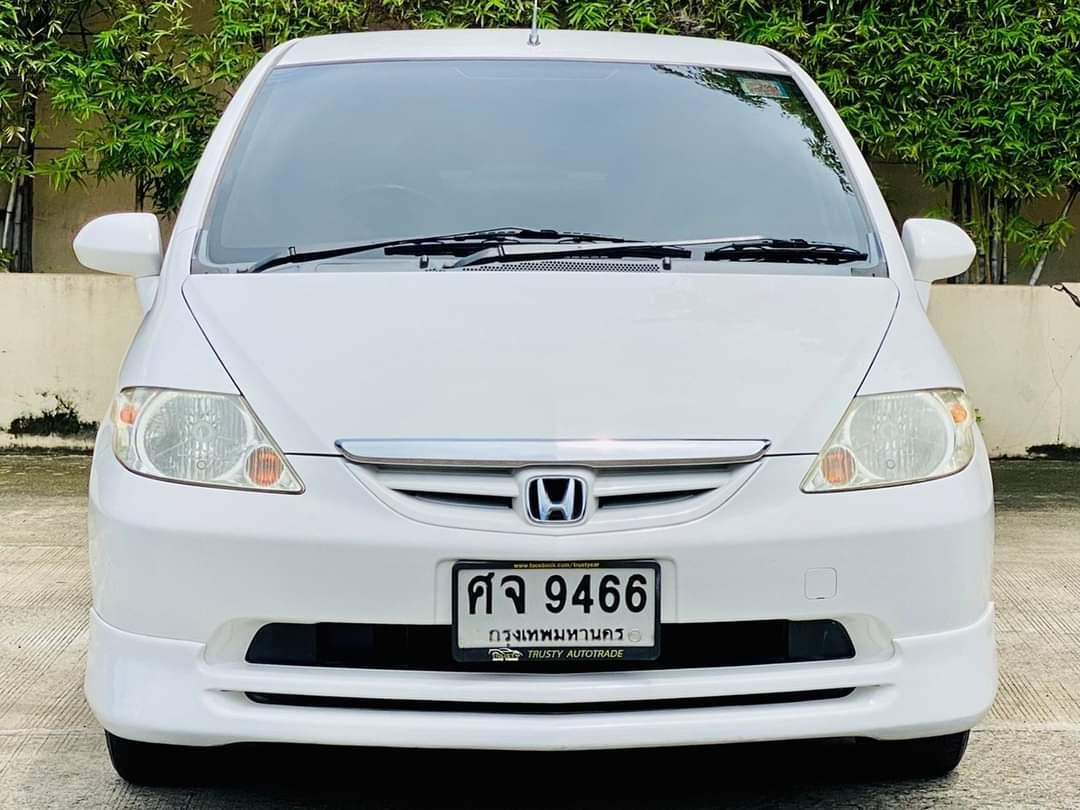license-plate: (452, 558, 662, 666)
